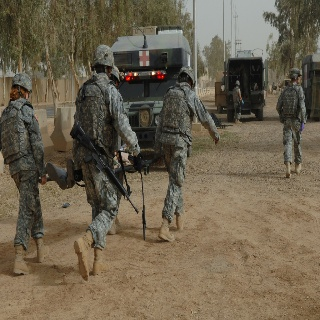rifle: (69, 121, 140, 212)
